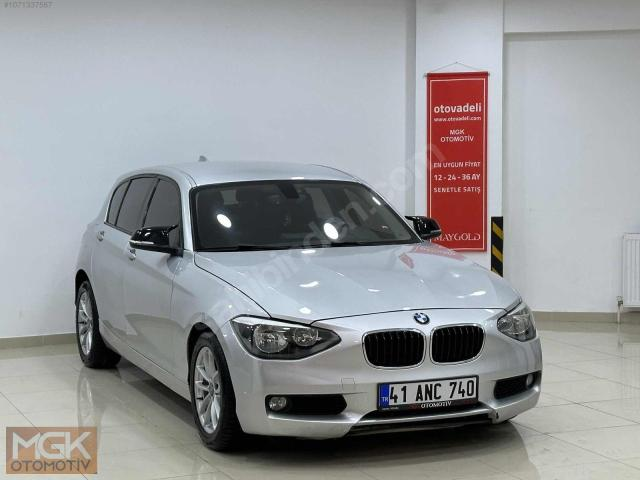plaka: (379, 377, 477, 410)
